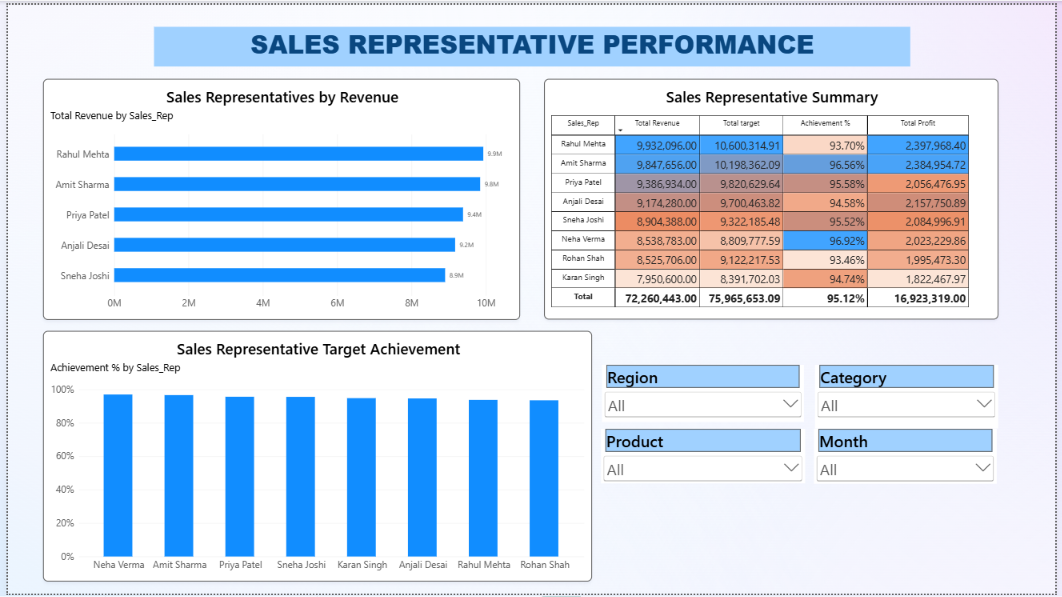

What the dashboard file says about the page in this screenshot:
{"tool":"powerbi","page":{"name":"Sales Representative Performance","canvas":[1920,1080],"ordinal":2},"visuals":[{"type":"textbox","title":"SALES REPRESENTATIVE PERFORMANCE","box":[267.5,40,1387.5,72.5],"z":0},{"type":"clusteredBarChart","title":"Sales Representatives by Revenue","fields":{"Category":["Sales_Data1.Sales_Rep"],"Y":["Sales_Data1.Total Revenue"]},"box":[65,135,875,442.5],"z":1000},{"type":"clusteredColumnChart","title":"Sales Representative Target Achievement","fields":{"Category":["Sales_Data1.Sales_Rep"],"Y":["Sales_Data1.Achievement %"]},"box":[65,597.5,1007.5,460],"z":2000},{"type":"pivotTable","title":"Sales Representative Summary","fields":{"Rows":["Sales_Data1.Sales_Rep"],"Values":["Sales_Data1.Total Revenue","Sales_Data1.Total target","Sales_Data1.Achievement %","Sales_Data1.Total Profit"]},"box":[982.5,136.5,833.3,441.3],"z":3000},{"type":"slicer","fields":{"Values":["Sales_Data1.Region"]},"box":[1090.4,661.2,370.7,105.2],"z":4000},{"type":"slicer","fields":{"Values":["Sales_Data1.Category"]},"box":[1479.4,661.2,335.6,116.9],"z":5000},{"type":"slicer","fields":{"Values":["Sales_Data1.Product"]},"box":[1087,778.1,374,100.2],"z":6000},{"type":"slicer","fields":{"Values":["Sales_Data1.Month"]},"box":[1479.1,777.9,334.9,101.2],"z":7000}]}

Visuals, with their boxes in screenshot pixels (x1, y1, x2, y2), scaled from the page's 1920x1080 canvas onto the 1062x597 screenshot:
"SALES REPRESENTATIVE PERFORMANCE" textbox: box(148, 22, 915, 62)
"Sales Representatives by Revenue" clusteredBarChart: box(36, 75, 520, 319)
"Sales Representative Target Achievement" clusteredColumnChart: box(36, 330, 593, 585)
"Sales Representative Summary" pivotTable: box(543, 75, 1004, 319)
slicer - Sales_Data1.Region: box(603, 365, 808, 424)
slicer - Sales_Data1.Category: box(818, 365, 1004, 430)
slicer - Sales_Data1.Product: box(601, 430, 808, 486)
slicer - Sales_Data1.Month: box(818, 430, 1003, 486)
